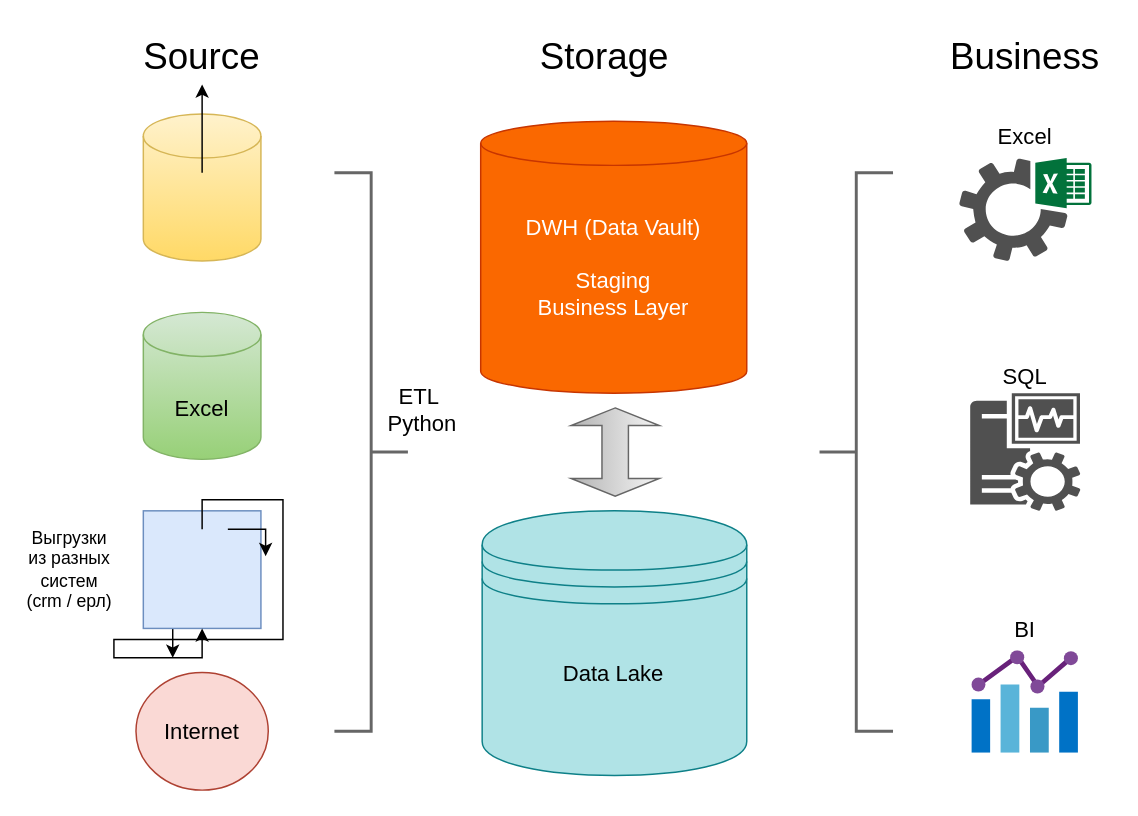
Image size: 1138x816. Some labels were removed from this diagram. Each missing label, with the box of its shape:
1C: (142, 112, 261, 261)
CSV / TXT: (142, 509, 261, 628)
